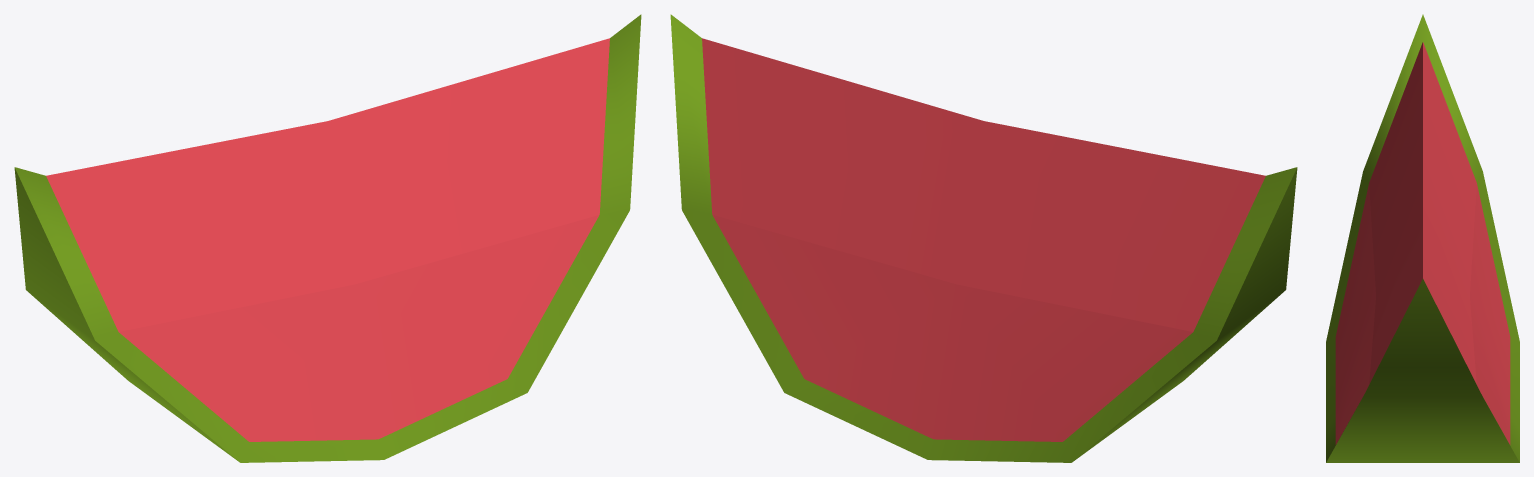
The model's file is Watermelon.fbx.
3 renders of one model, left to right at view 1: azimuth 30°, elevation 25°; view 2: azimuth 150°, elevation 25°; view 3: azimuth 270°, elevation 25°, orthographic. The views are drawn at different scales.
Parts seen in each view (by area): view 1: Watermelon; view 2: Watermelon; view 3: Watermelon.
Boxes of the visible parts, x1=… form: Watermelon: x1=14, y1=14, x2=641, y2=462; Watermelon: x1=670, y1=14, x2=1297, y2=462; Watermelon: x1=1326, y1=14, x2=1519, y2=462.
Bounding box in the file's own units: 203 × 102 × 63.02.
